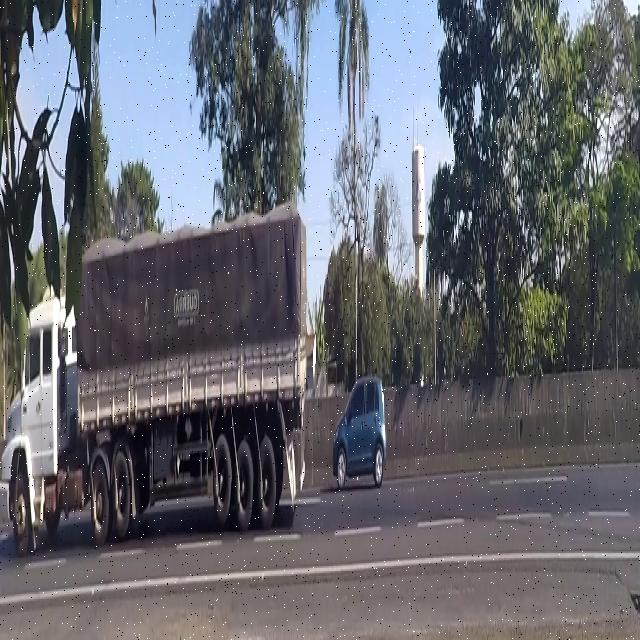-axle: (86, 443, 112, 546), (208, 429, 233, 527), (232, 432, 254, 542), (112, 441, 132, 553), (257, 432, 276, 534), (13, 464, 32, 565)
